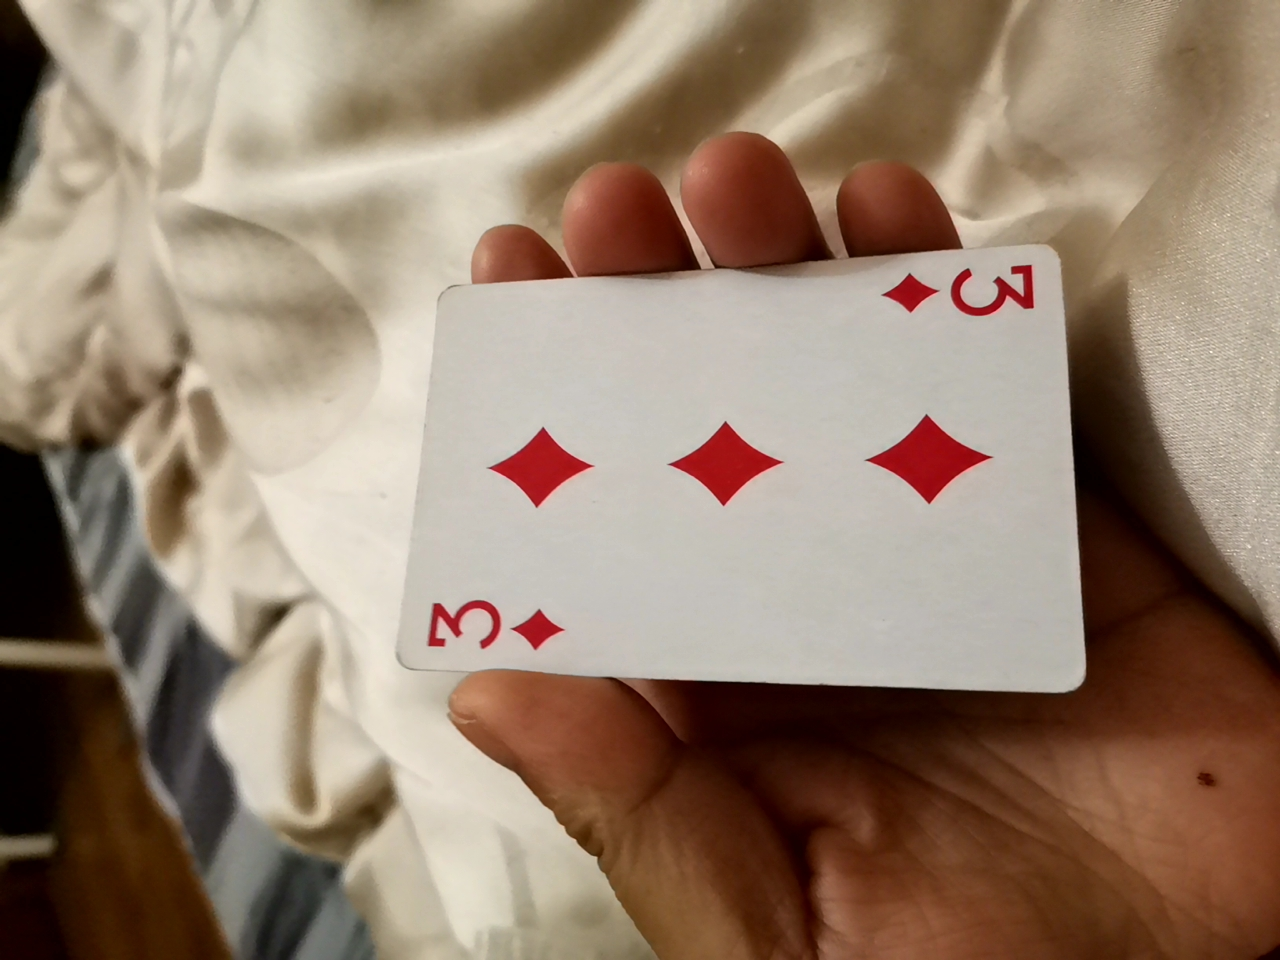fk 3: (395, 258, 1068, 693)
